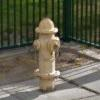Hydrant: (23, 12, 68, 99)
